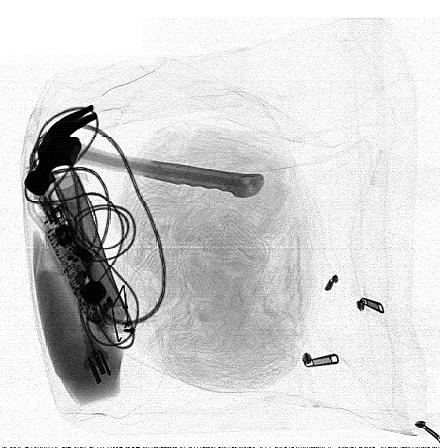Hammer: (24, 104, 265, 198)
